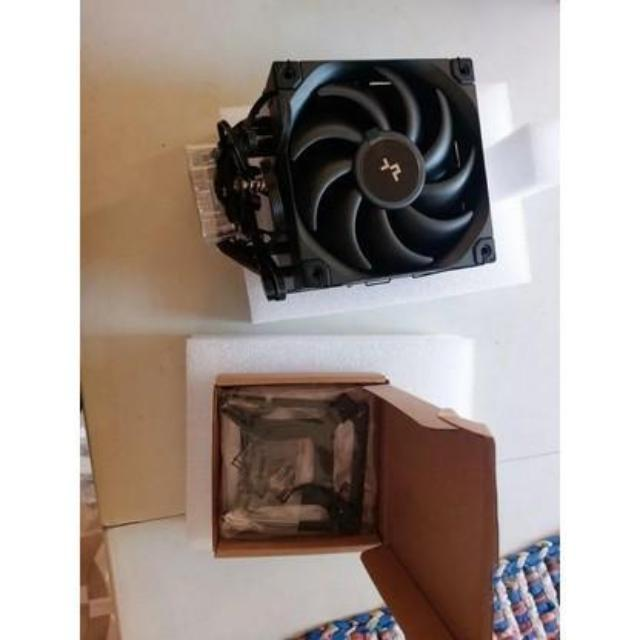CPU_Fan: (214, 52, 500, 297)
